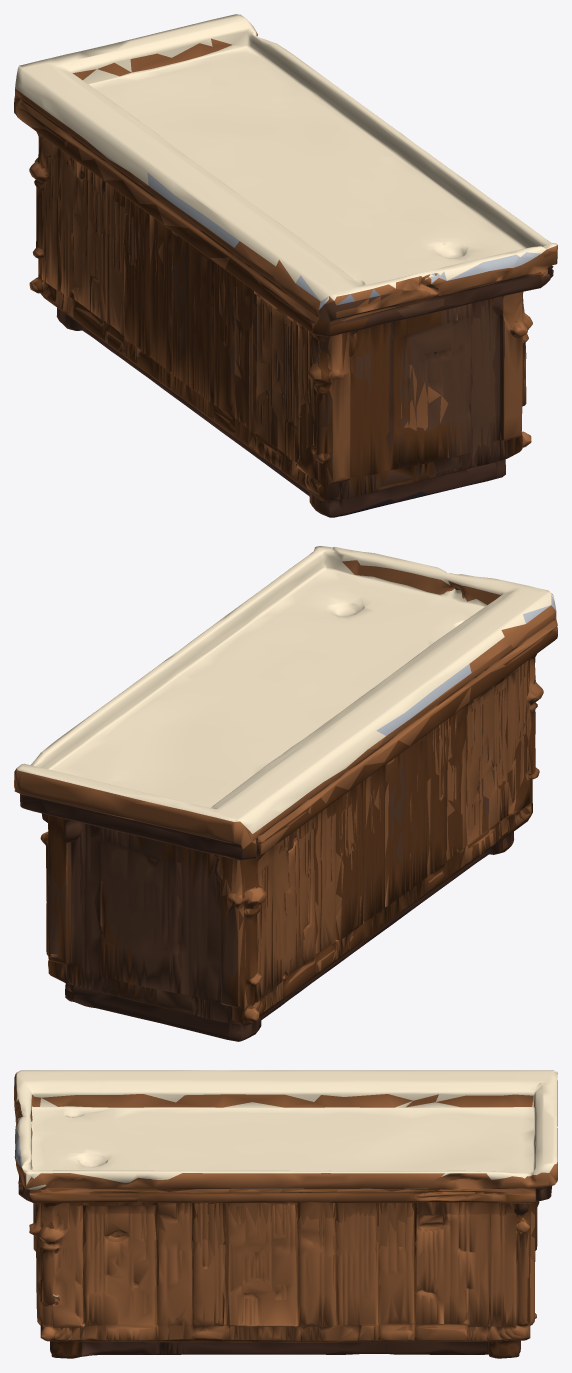
File: SM_chest_wood.glb
3 views of the same model, one above another, from view 1: azimuth 30°, elevation 25°; view 2: azimuth 150°, elevation 25°; view 3: azimuth 270°, elevation 25° (orthographic). The views are drawn at different scales.
Visible parts, largest first — view 1: SM_chest_wood; view 2: SM_chest_wood; view 3: SM_chest_wood.
Part boxes in pixels (x1,y1,x2,y2): SM_chest_wood: (14,14,557,517); SM_chest_wood: (14,546,557,1041); SM_chest_wood: (14,1070,557,1358).
Bounding box in the file's own units: 0.5764 × 0.55 × 1.3.
Materials: 1 (1 with a texture image).
